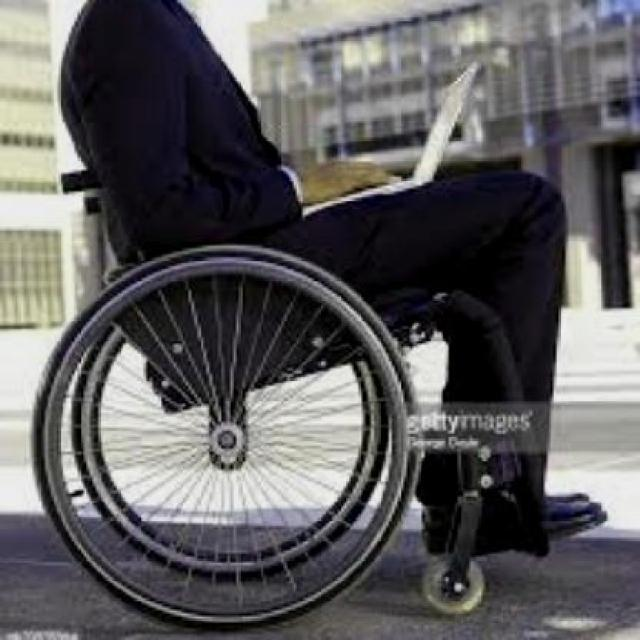wheelchairs: (32, 170, 551, 628)
